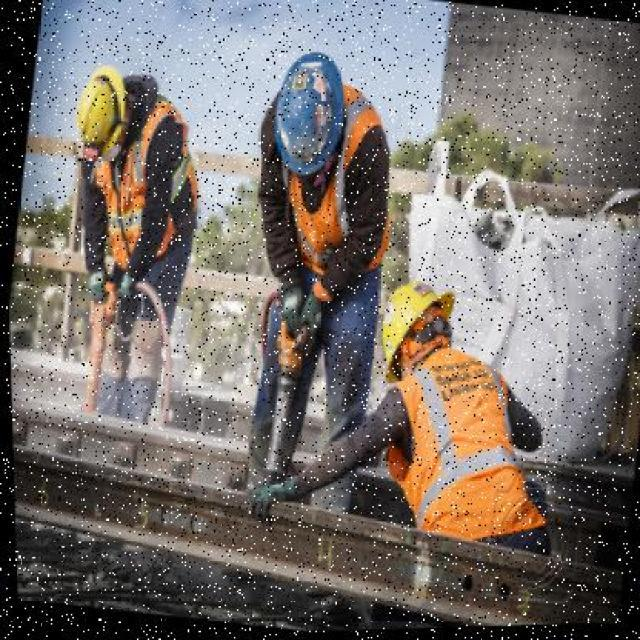helmet: (254, 34, 360, 194), (357, 263, 465, 376), (54, 56, 140, 175)
vest: (346, 335, 576, 553), (251, 143, 413, 288), (77, 139, 209, 271)
